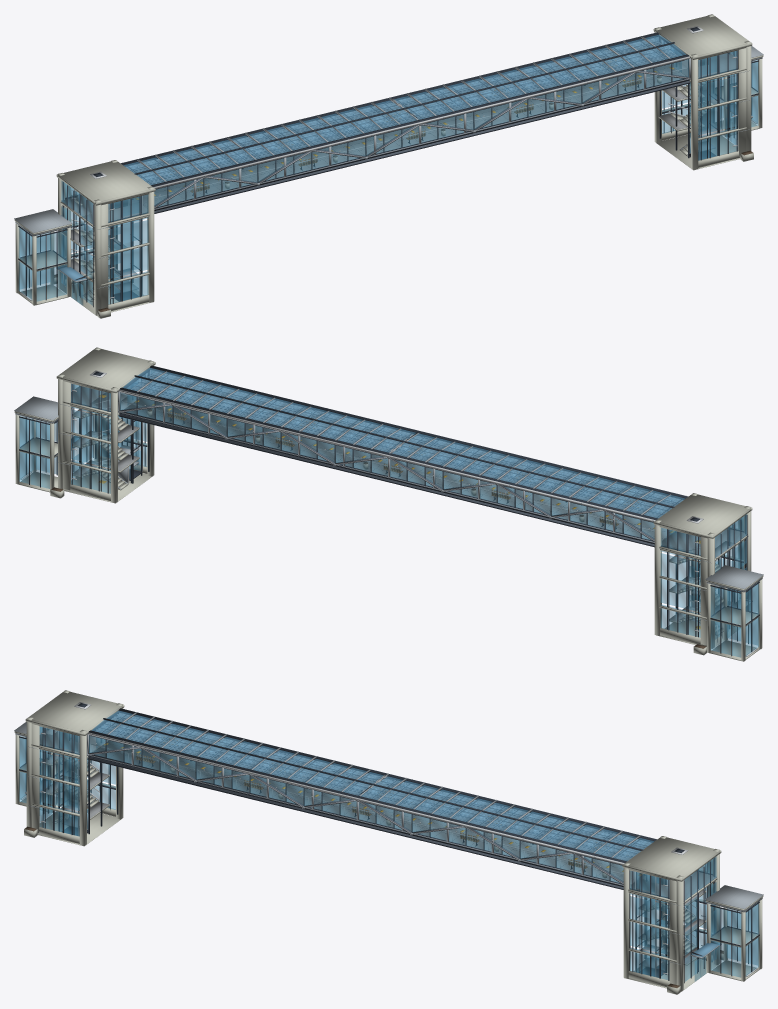
File: RAIL08_lod2.glb
3 views of the same model, one above another, from view 1: azimuth 30°, elevation 25°; view 2: azimuth 150°, elevation 25°; view 3: azimuth 330°, elevation 25° (orthographic).
Visible parts, largest first — view 1: Facade__glass, Access_Tower__concrete, Roof__glass_roof, Interior__floor, Interior__steel_light, Facade__frame, Structure__frame, Roof__frame, Structure__steel, Roof__steel_light, Lift__glass, Structure__steel_light (+10 smaller); view 2: Facade__glass, Access_Tower__concrete, Roof__glass_roof, Interior__floor, Interior__steel_light, Facade__frame, Structure__frame, Roof__frame, Roof__steel_light, Structure__steel, Structure__steel_light, Roof__silver (+8 smaller); view 3: Facade__glass, Access_Tower__concrete, Roof__glass_roof, Interior__floor, Interior__steel_light, Facade__frame, Structure__frame, Roof__frame, Roof__steel_light, Structure__steel, Lift__glass, Structure__steel_light (+11 smaller).
Boxes of the visible parts, x1,y1,x2,y2 form: Facade__glass: (19, 37, 758, 305); Access_Tower__concrete: (15, 14, 762, 315); Roof__glass_roof: (123, 34, 686, 185); Interior__floor: (138, 58, 684, 207); Interior__steel_light: (127, 38, 677, 184); Facade__frame: (18, 36, 758, 307); Structure__frame: (121, 32, 690, 213); Roof__frame: (93, 27, 700, 186); Structure__steel: (146, 48, 689, 212); Roof__steel_light: (14, 32, 763, 236); Lift__glass: (113, 56, 717, 300); Structure__steel_light: (154, 37, 690, 209); Facade__glass: (19, 370, 758, 657); Access_Tower__concrete: (15, 347, 762, 661); Roof__glass_roof: (123, 368, 685, 518); Interior__floor: (125, 391, 671, 540); Interior__steel_light: (131, 371, 681, 517); Facade__frame: (19, 369, 759, 656); Structure__frame: (118, 365, 688, 547); Roof__frame: (93, 366, 699, 521); Roof__steel_light: (14, 371, 763, 592); Structure__steel: (118, 381, 662, 545); Structure__steel_light: (118, 370, 654, 542); Roof__silver: (90, 366, 703, 523); Facade__glass: (19, 716, 758, 981); Access_Tower__concrete: (15, 690, 762, 991); Roof__glass_roof: (91, 710, 654, 861); Interior__floor: (93, 734, 639, 883); Interior__steel_light: (96, 713, 651, 860); Facade__frame: (19, 712, 759, 983); Structure__frame: (87, 708, 656, 889); Roof__frame: (77, 703, 684, 862); Roof__steel_light: (14, 708, 763, 912); Structure__steel: (88, 724, 633, 888); Lift__glass: (60, 732, 665, 976); Structure__steel_light: (87, 713, 623, 885).
Size of the model in its own units: 81.17 by 12.18 by 9.65.
16 materials, 16 textured.
